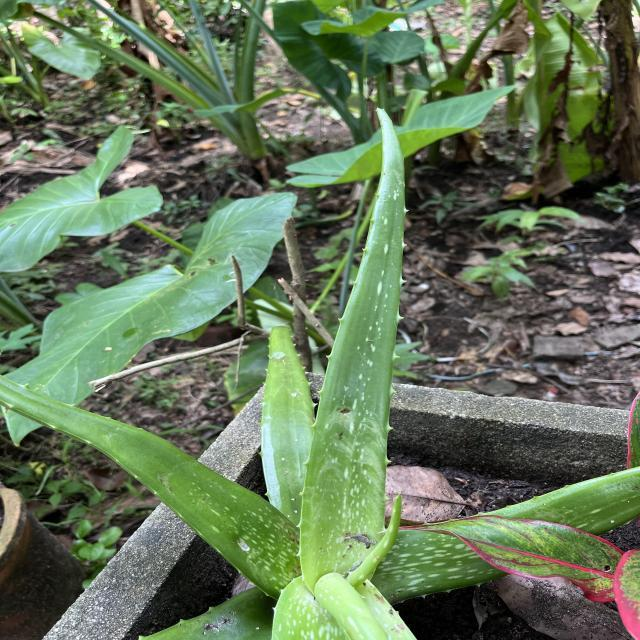Aloe vera: (296, 102, 414, 587)
